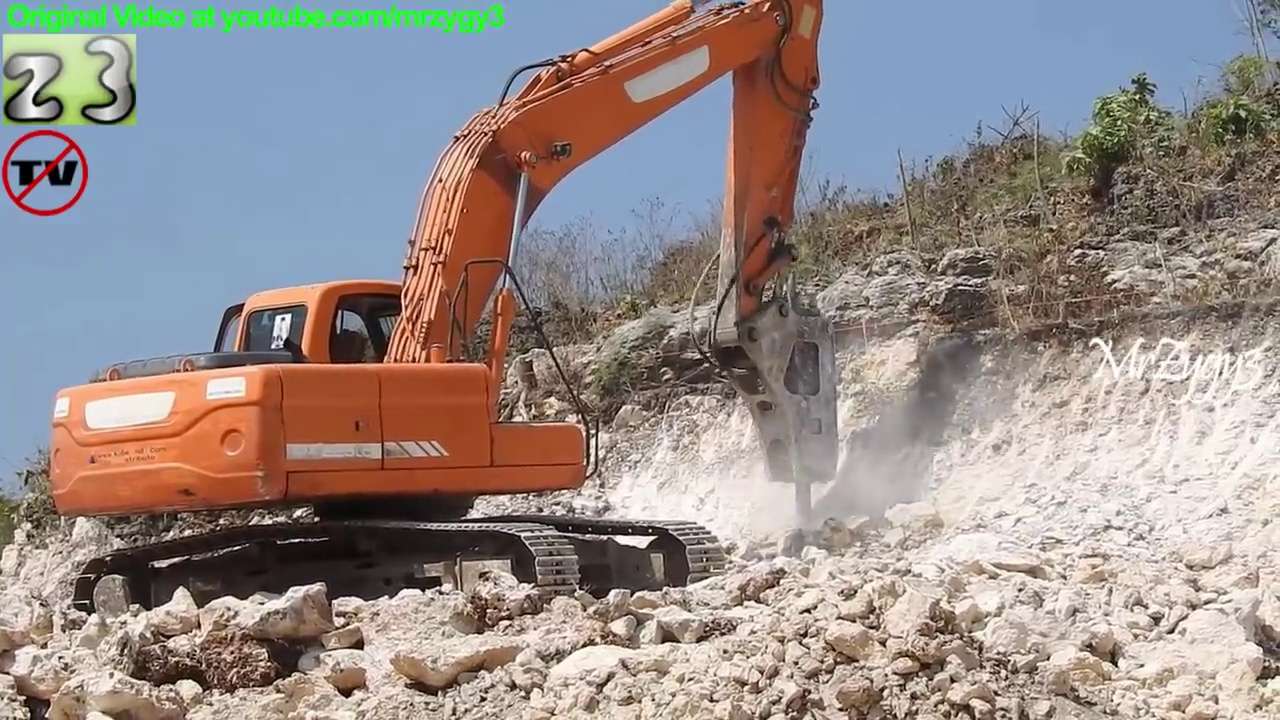excavator: (46, 1, 854, 640)
